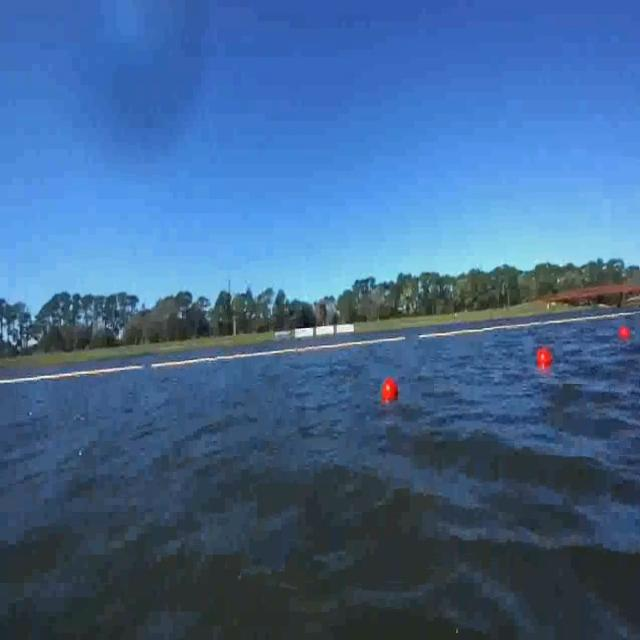red-buoy: (381, 376, 396, 400), (536, 347, 552, 369), (619, 326, 631, 339)
